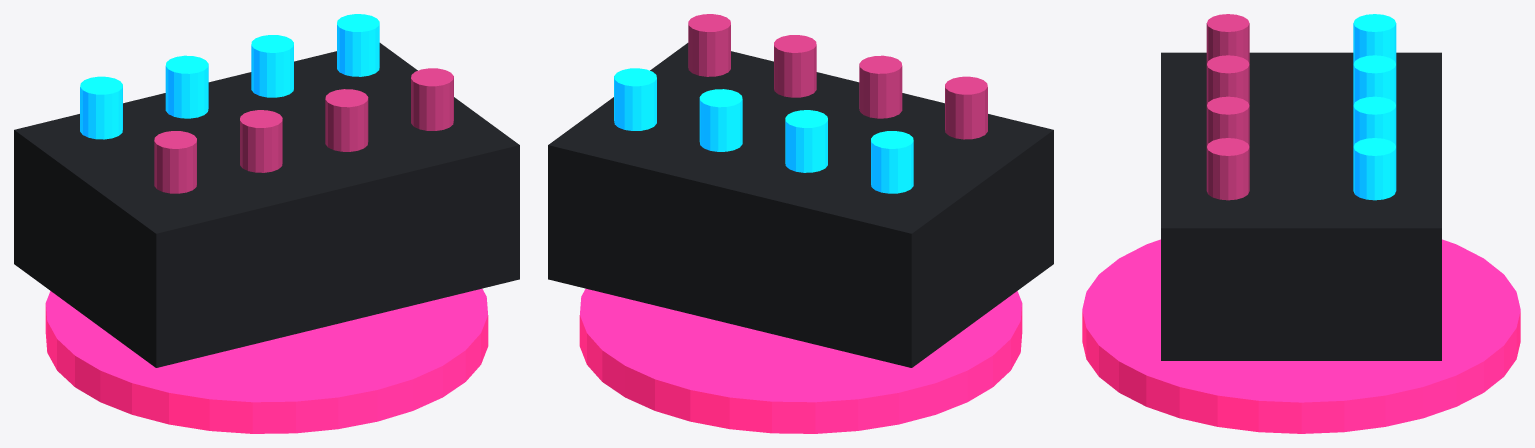
Rendered from music_mixer.dae.
The picture shows the model from 3 angles, left to right: view 1: azimuth 30°, elevation 25°; view 2: azimuth 150°, elevation 25°; view 3: azimuth 270°, elevation 25°; orthographic projection.
Parts seen in each view (by area): view 1: 07_12_Popular_Music_Mixer_part_01, 07_12_Popular_Music_Mixer_ROOT_base, 07_12_Popular_Music_Mixer_part_04, 07_12_Popular_Music_Mixer_part_07, 07_12_Popular_Music_Mixer_part_02, 07_12_Popular_Music_Mixer_part_05, 07_12_Popular_Music_Mixer_part_08, 07_12_Popular_Music_Mixer_part_03, 07_12_Popular_Music_Mixer_part_06, 07_12_Popular_Music_Mixer_part_09; view 2: 07_12_Popular_Music_Mixer_part_01, 07_12_Popular_Music_Mixer_ROOT_base, 07_12_Popular_Music_Mixer_part_05, 07_12_Popular_Music_Mixer_part_06, 07_12_Popular_Music_Mixer_part_03, 07_12_Popular_Music_Mixer_part_04, 07_12_Popular_Music_Mixer_part_09, 07_12_Popular_Music_Mixer_part_02, 07_12_Popular_Music_Mixer_part_07, 07_12_Popular_Music_Mixer_part_08; view 3: 07_12_Popular_Music_Mixer_part_01, 07_12_Popular_Music_Mixer_ROOT_base, 07_12_Popular_Music_Mixer_part_08, 07_12_Popular_Music_Mixer_part_09, 07_12_Popular_Music_Mixer_part_02, 07_12_Popular_Music_Mixer_part_03, 07_12_Popular_Music_Mixer_part_04, 07_12_Popular_Music_Mixer_part_05, 07_12_Popular_Music_Mixer_part_06, 07_12_Popular_Music_Mixer_part_07.
Part boxes in pixels (x1=…): 07_12_Popular_Music_Mixer_part_01: x1=14, y1=43, x2=519, y2=367; 07_12_Popular_Music_Mixer_ROOT_base: x1=45, y1=288, x2=488, y2=433; 07_12_Popular_Music_Mixer_part_04: x1=165, y1=55, x2=208, y2=118; 07_12_Popular_Music_Mixer_part_07: x1=325, y1=89, x2=368, y2=151; 07_12_Popular_Music_Mixer_part_02: x1=80, y1=76, x2=122, y2=139; 07_12_Popular_Music_Mixer_part_05: x1=240, y1=110, x2=282, y2=172; 07_12_Popular_Music_Mixer_part_08: x1=337, y1=14, x2=379, y2=76; 07_12_Popular_Music_Mixer_part_03: x1=154, y1=131, x2=196, y2=193; 07_12_Popular_Music_Mixer_part_06: x1=251, y1=35, x2=293, y2=97; 07_12_Popular_Music_Mixer_part_09: x1=411, y1=68, x2=453, y2=130; 07_12_Popular_Music_Mixer_part_01: x1=548, y1=43, x2=1053, y2=367; 07_12_Popular_Music_Mixer_ROOT_base: x1=579, y1=288, x2=1022, y2=433; 07_12_Popular_Music_Mixer_part_05: x1=859, y1=55, x2=902, y2=118; 07_12_Popular_Music_Mixer_part_06: x1=699, y1=89, x2=742, y2=151; 07_12_Popular_Music_Mixer_part_03: x1=945, y1=76, x2=987, y2=139; 07_12_Popular_Music_Mixer_part_04: x1=785, y1=110, x2=827, y2=172; 07_12_Popular_Music_Mixer_part_09: x1=688, y1=14, x2=730, y2=76; 07_12_Popular_Music_Mixer_part_02: x1=871, y1=131, x2=913, y2=193; 07_12_Popular_Music_Mixer_part_07: x1=774, y1=35, x2=816, y2=97; 07_12_Popular_Music_Mixer_part_08: x1=614, y1=68, x2=656, y2=130; 07_12_Popular_Music_Mixer_part_01: x1=1161, y1=52, x2=1441, y2=360; 07_12_Popular_Music_Mixer_ROOT_base: x1=1082, y1=239, x2=1520, y2=433; 07_12_Popular_Music_Mixer_part_08: x1=1353, y1=138, x2=1396, y2=200; 07_12_Popular_Music_Mixer_part_09: x1=1206, y1=138, x2=1249, y2=200; 07_12_Popular_Music_Mixer_part_02: x1=1353, y1=14, x2=1396, y2=63; 07_12_Popular_Music_Mixer_part_03: x1=1206, y1=14, x2=1249, y2=63; 07_12_Popular_Music_Mixer_part_04: x1=1353, y1=55, x2=1396, y2=105; 07_12_Popular_Music_Mixer_part_05: x1=1206, y1=55, x2=1249, y2=105; 07_12_Popular_Music_Mixer_part_06: x1=1353, y1=96, x2=1396, y2=146; 07_12_Popular_Music_Mixer_part_07: x1=1206, y1=96, x2=1249, y2=146.
Bounding box in the file's own units: 0.76 × 0.49 × 0.76.
